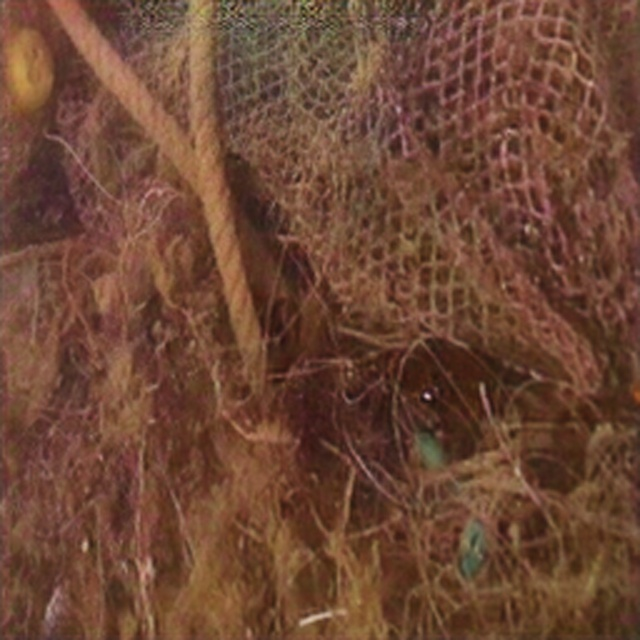mine: (58, 0, 639, 392)
